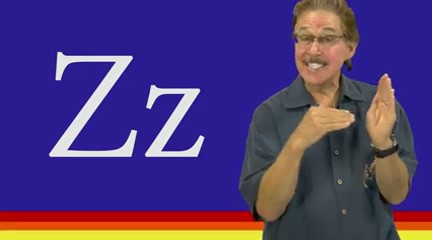Z: (285, 68, 408, 162)
